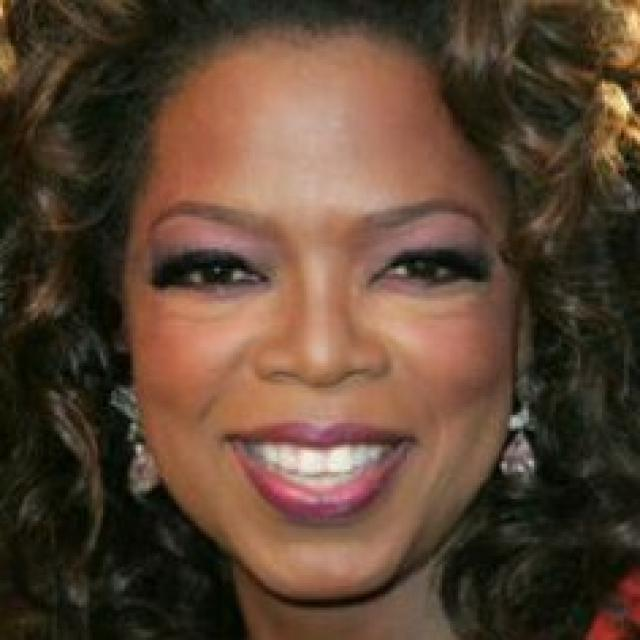Normal: (124, 34, 520, 603)
